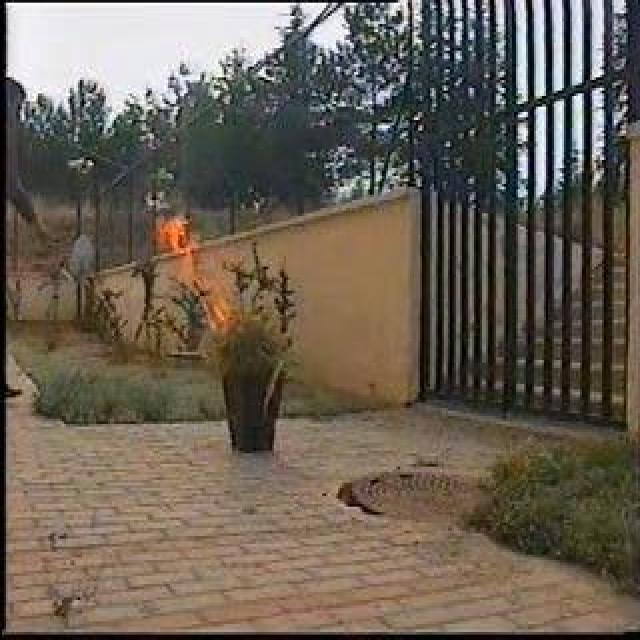fire: (160, 218, 230, 327)
